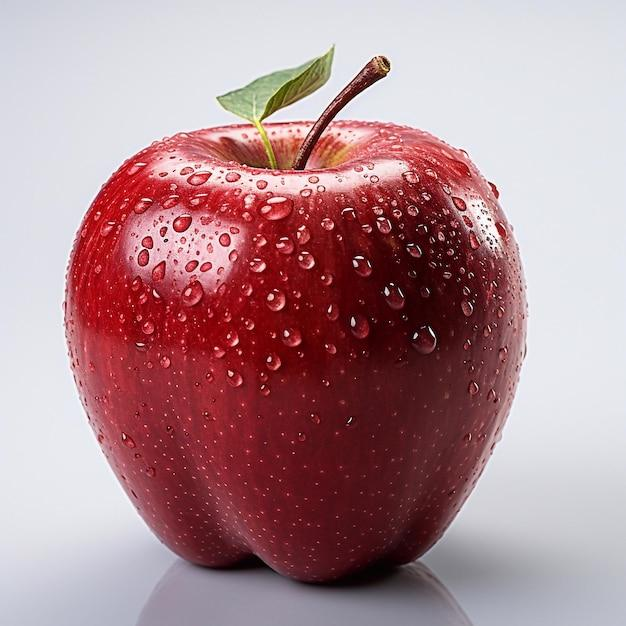apples: (38, 55, 602, 586)
